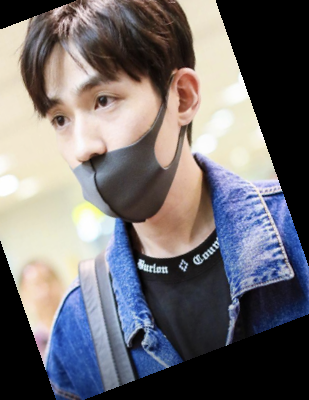mask_weared_incorrect: (16, 1, 209, 228)
